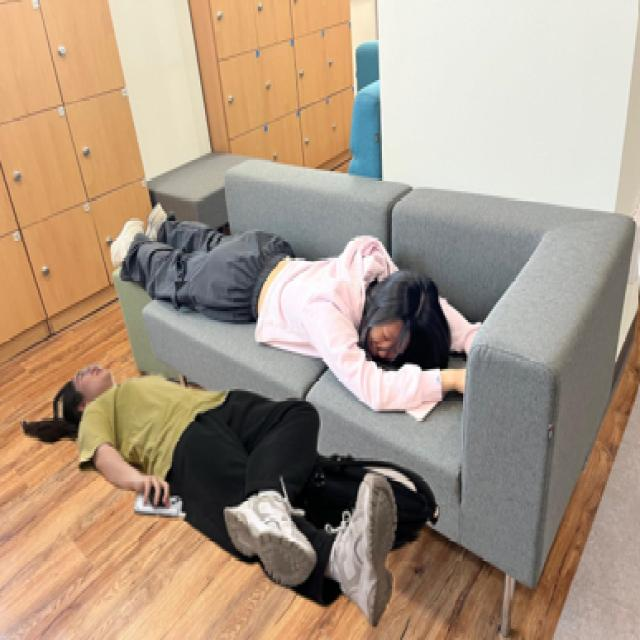layPeople: (26, 364, 435, 607), (119, 209, 480, 422)
